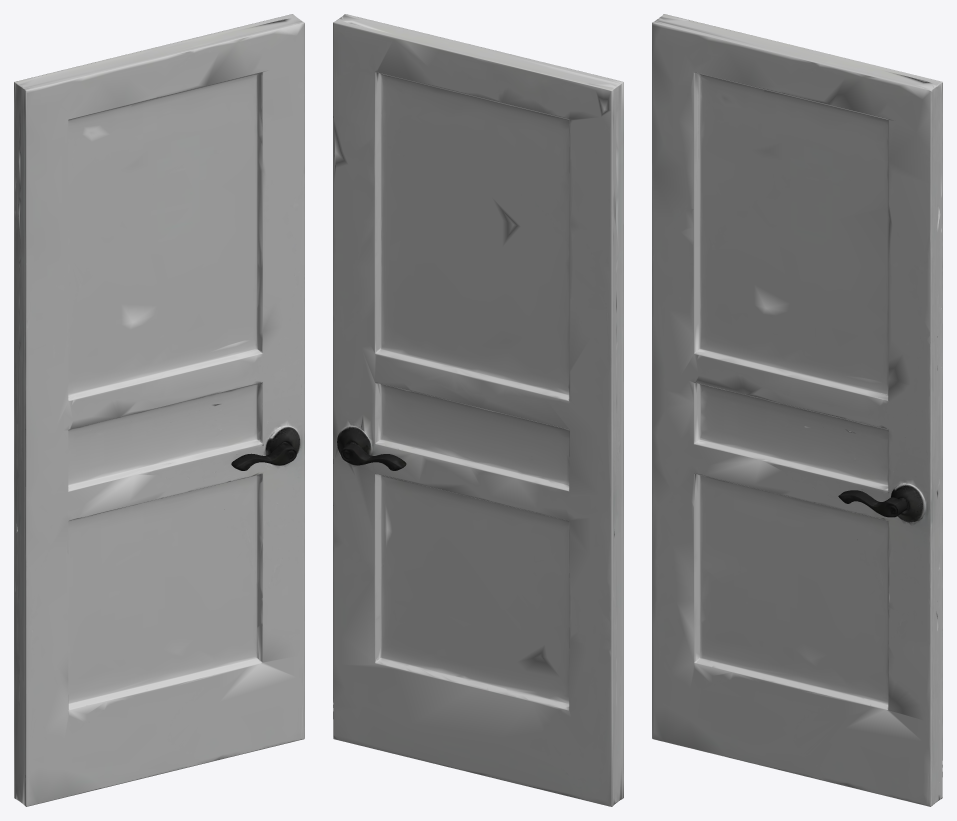
3 views of the same model, side by side, from view 1: azimuth 30°, elevation 25°; view 2: azimuth 150°, elevation 25°; view 3: azimuth 330°, elevation 25° (orthographic).
Parts seen in each view (by area): view 1: material; view 2: material; view 3: material.
Part boxes in pixels (box(x1,y1,x2,y2)): material: box(14, 14, 304, 806); material: box(333, 14, 623, 806); material: box(652, 14, 942, 806).
Size of the model in its own units: 0.4525 by 1.11 by 0.1054.
Materials: 1 (1 with a texture image).
